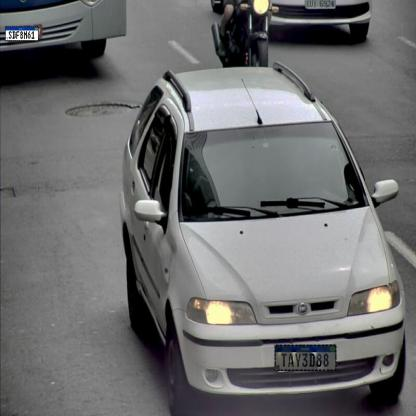PlacaM: (274, 345, 336, 371), (5, 26, 39, 41)
